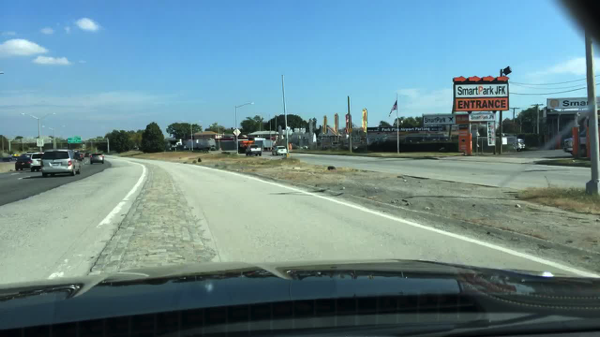car: (39, 149, 81, 178), (28, 151, 44, 173), (14, 154, 31, 172), (246, 143, 263, 156), (269, 145, 287, 157), (89, 153, 107, 165), (75, 152, 85, 161), (86, 151, 91, 157)
traffic sign: (67, 137, 82, 145), (36, 139, 43, 147), (233, 130, 241, 136)
truck: (562, 124, 589, 157), (502, 135, 527, 153), (236, 138, 255, 154), (196, 139, 216, 151), (184, 139, 200, 150)
